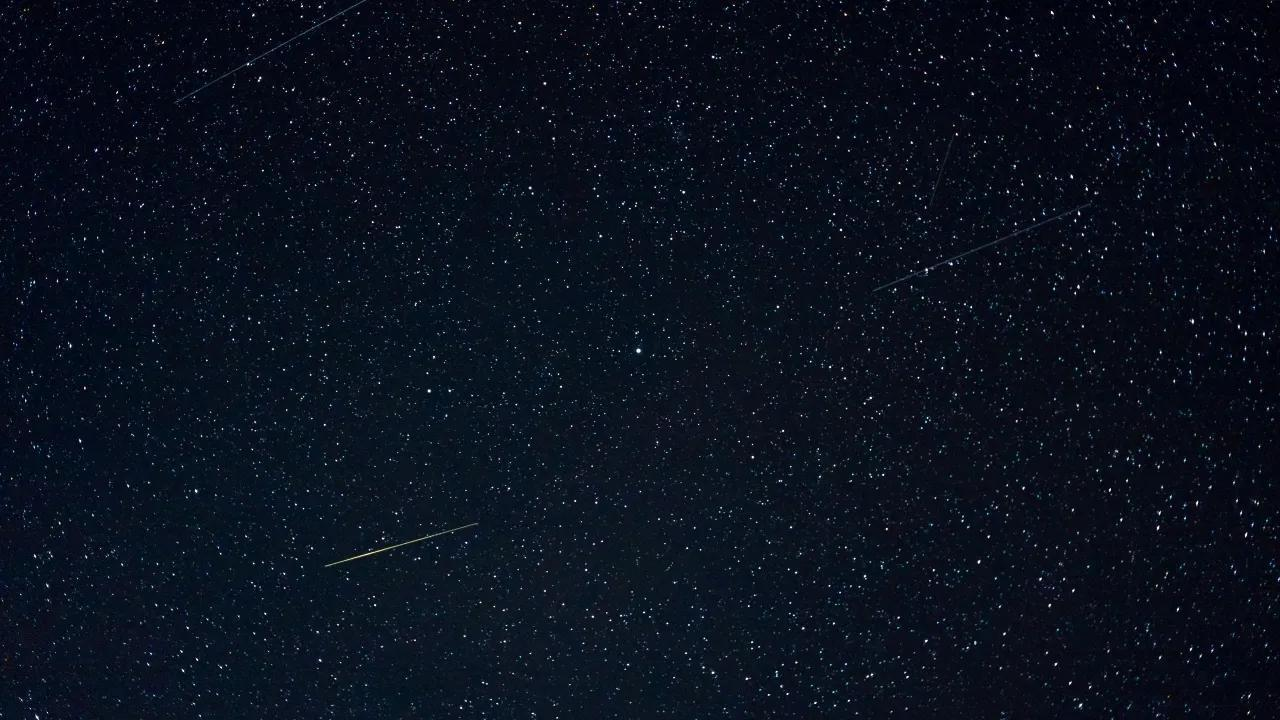meteorite: (836, 202, 1096, 298), (165, 8, 368, 94), (322, 511, 499, 571)
